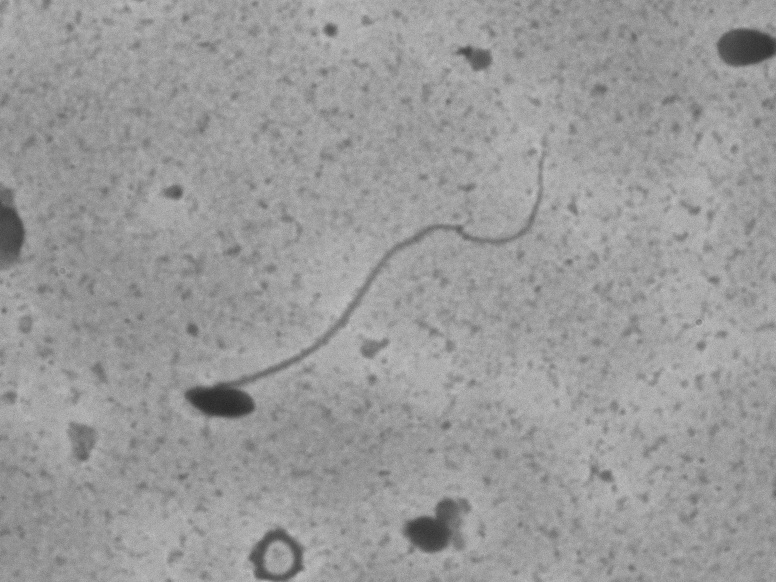Abnormal: (128, 160, 618, 429)
